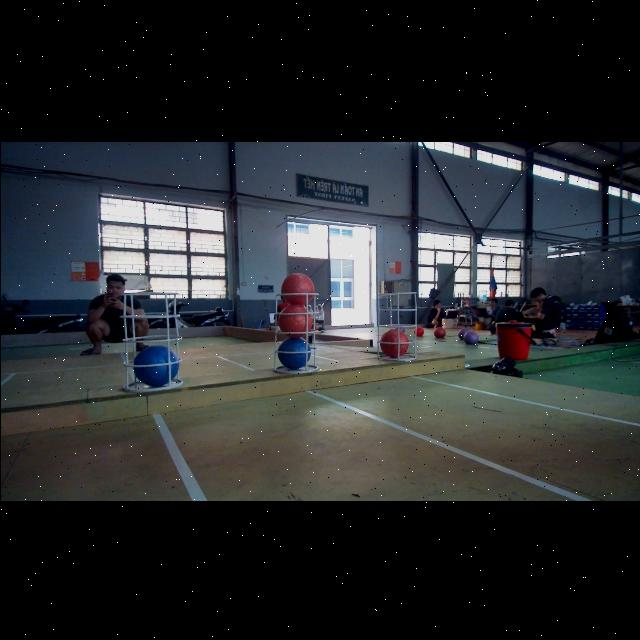B: (132, 344, 178, 386), (276, 335, 310, 369)
R: (276, 304, 310, 336), (280, 271, 312, 303), (377, 327, 407, 357)
